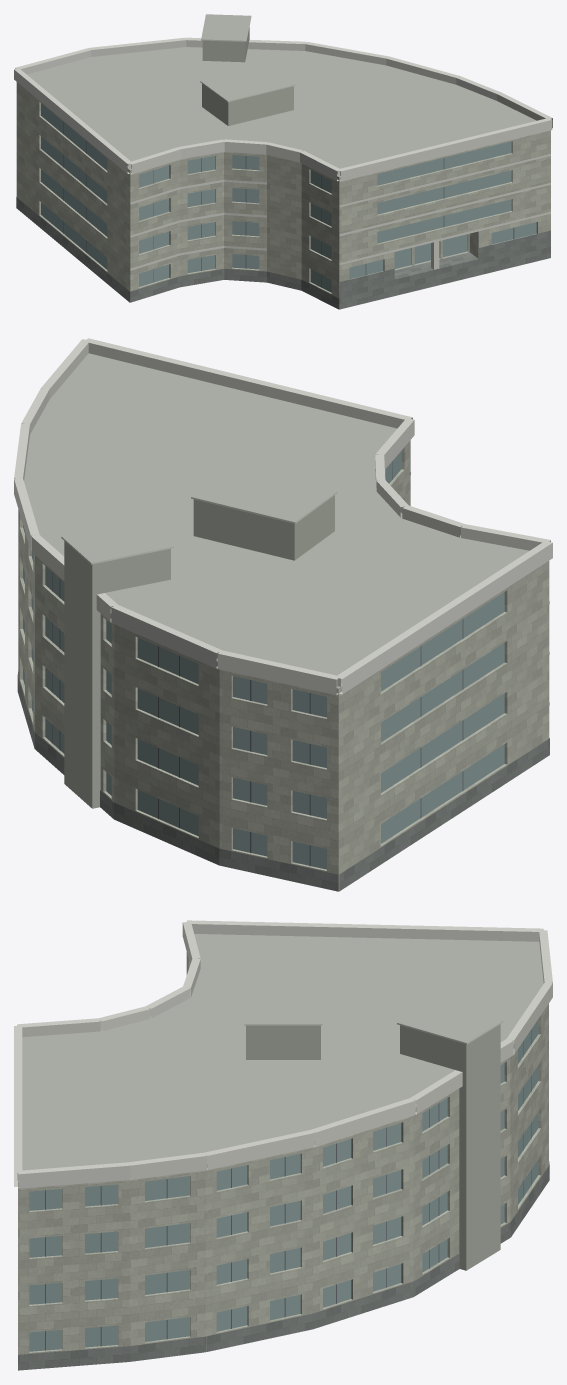
3 views of the same model, one above another, from view 1: azimuth 30°, elevation 25°; view 2: azimuth 150°, elevation 25°; view 3: azimuth 270°, elevation 25° (orthographic). The views are drawn at different scales.
Parts seen in each view (by area): view 1: law84__wall, law84__roof, law84__glass, law84__trim, law84__base, law84__wall2, law84__frame; view 2: law84__roof, law84__wall, law84__glass, law84__trim, law84__wall2, law84__base, law84__frame; view 3: law84__roof, law84__wall, law84__glass, law84__trim, law84__wall2, law84__base, law84__frame.
Part boxes in pixels (left/top/right/bottom): law84__wall: left=16, top=82, right=550, bottom=308; law84__roof: left=27, top=14, right=550, bottom=309; law84__glass: left=41, top=103, right=536, bottom=292; law84__trim: left=14, top=17, right=552, bottom=270; law84__base: left=16, top=197, right=550, bottom=309; law84__wall2: left=202, top=27, right=293, bottom=125; law84__frame: left=63, top=122, right=514, bottom=287; law84__roof: left=24, top=353, right=529, bottom=688; law84__wall: left=18, top=440, right=549, bottom=890; law84__glass: left=23, top=451, right=504, bottom=869; law84__trim: left=14, top=338, right=552, bottom=705; law84__wall2: left=64, top=495, right=334, bottom=808; law84__base: left=17, top=672, right=549, bottom=891; law84__frame: left=52, top=461, right=463, bottom=866; law84__roof: left=18, top=934, right=543, bottom=1182; law84__wall: left=18, top=952, right=548, bottom=1354; law84__glass: left=29, top=1019, right=538, bottom=1351; law84__trim: left=14, top=920, right=552, bottom=1188; law84__wall2: left=246, top=1024, right=500, bottom=1270; law84__base: left=18, top=1161, right=549, bottom=1370; law84__frame: left=45, top=1030, right=531, bottom=1350.
Bounding box in the file's own units: 41.74 × 17.57 × 37.44.
Materials: 9 (2 with a texture image).
